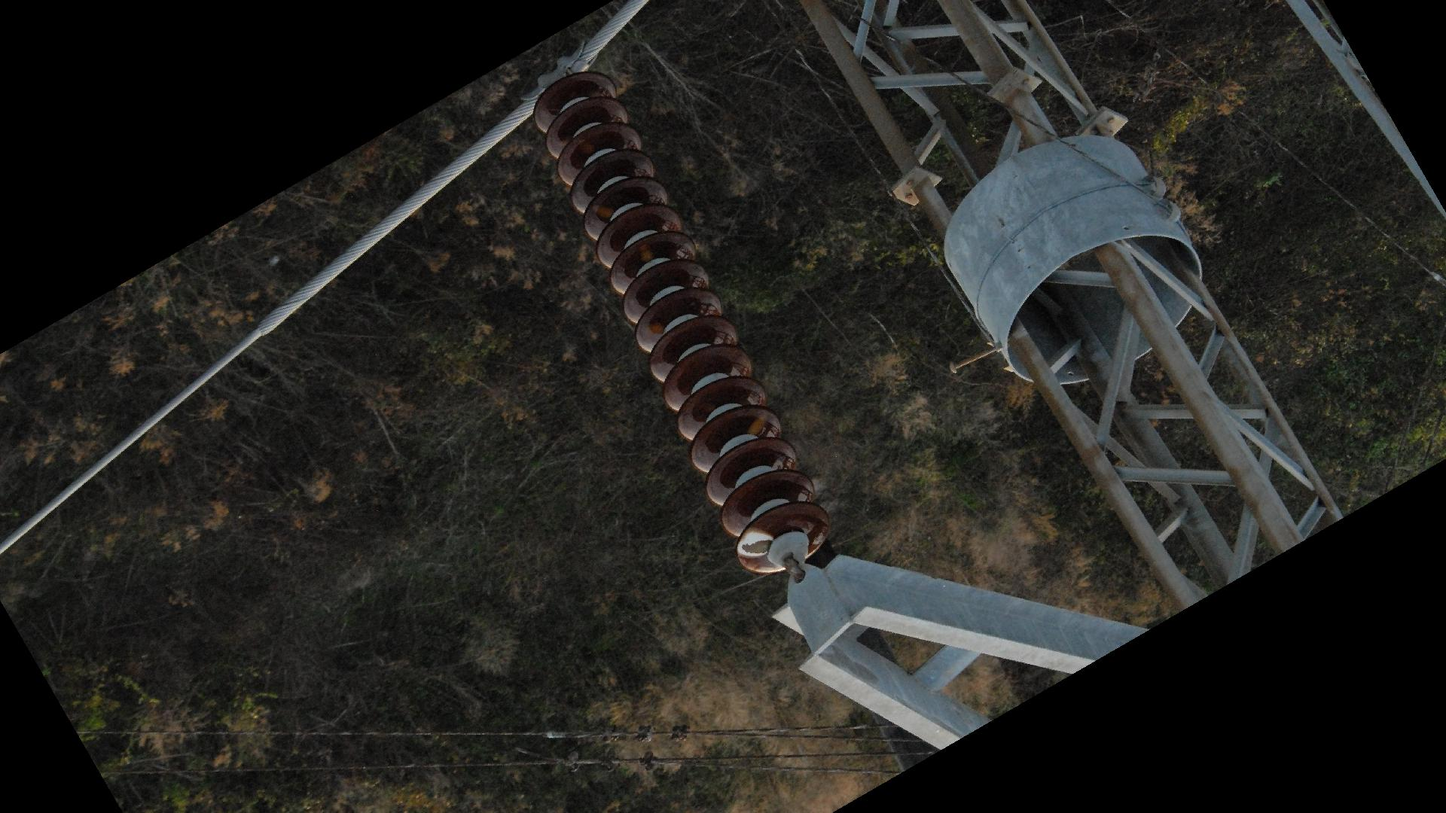insulator: (530, 69, 835, 578)
insulator_flashover: (737, 529, 774, 559), (746, 412, 767, 436)
